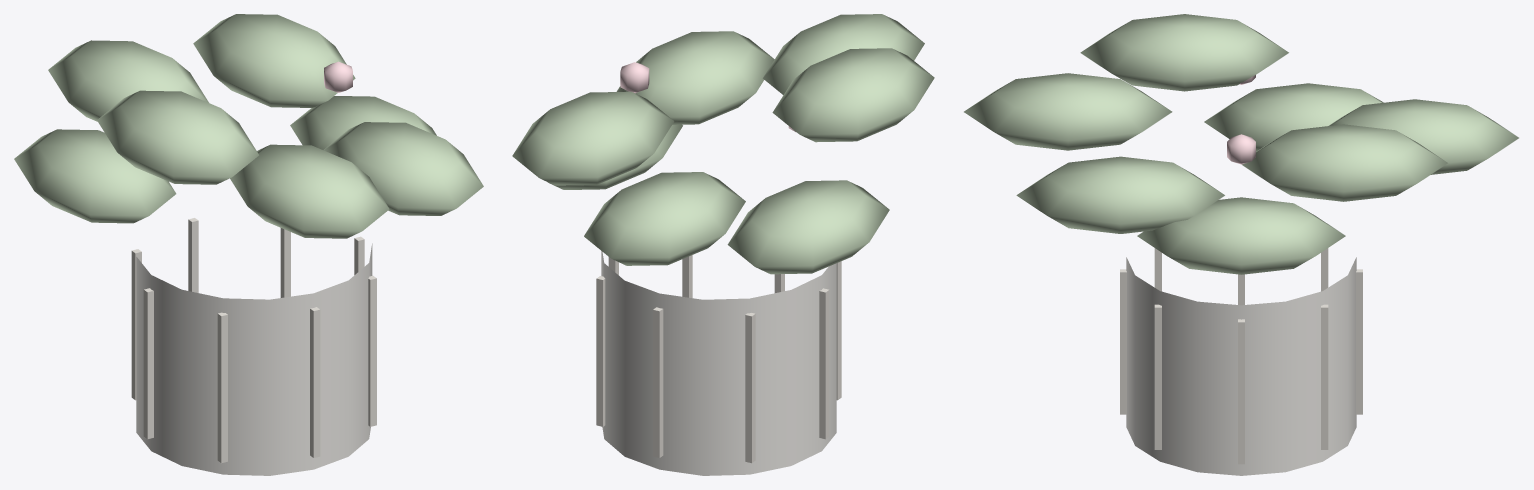
File: plant-small.glb
The picture shows the model from 3 angles, left to right: view 1: azimuth 30°, elevation 25°; view 2: azimuth 150°, elevation 25°; view 3: azimuth 270°, elevation 25°; orthographic projection. The views are drawn at different scales.
Parts seen in each view (by area): view 1: plant-small; view 2: plant-small; view 3: plant-small.
Part boxes in pixels (left/top/right/bottom): plant-small: left=14, top=14, right=483, bottom=475; plant-small: left=512, top=14, right=934, bottom=475; plant-small: left=964, top=14, right=1518, bottom=475.
Bounding box in the file's own units: 0.4267 × 0.407 × 0.5846.
